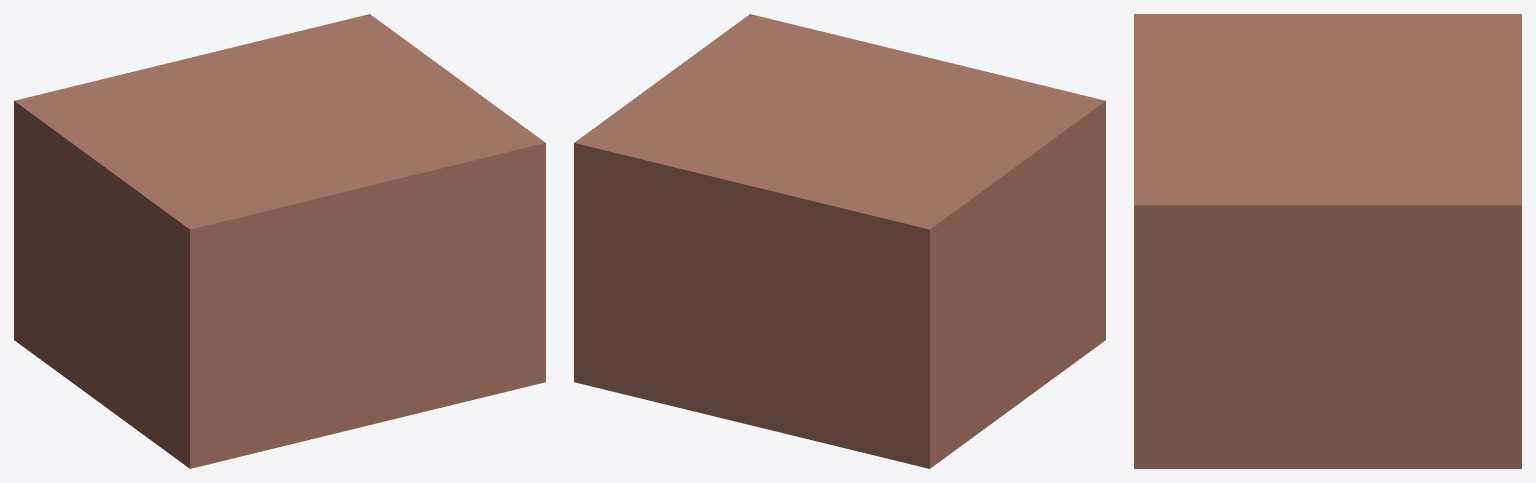
Rendered from churrasqueira.glb.
The picture shows the model from 3 angles, left to right: view 1: azimuth 30°, elevation 25°; view 2: azimuth 150°, elevation 25°; view 3: azimuth 270°, elevation 25°; orthographic projection. The views are drawn at different scales.
Visible parts, largest first — view 1: Malha_0; view 2: Malha_0; view 3: Malha_0.
Part boxes in pixels (<box>): Malha_0: <box>14,14,545,468</box>; Malha_0: <box>574,14,1105,468</box>; Malha_0: <box>1134,14,1521,468</box>.
Size of the model in its own units: 1.4 by 0.9 by 1.2.
